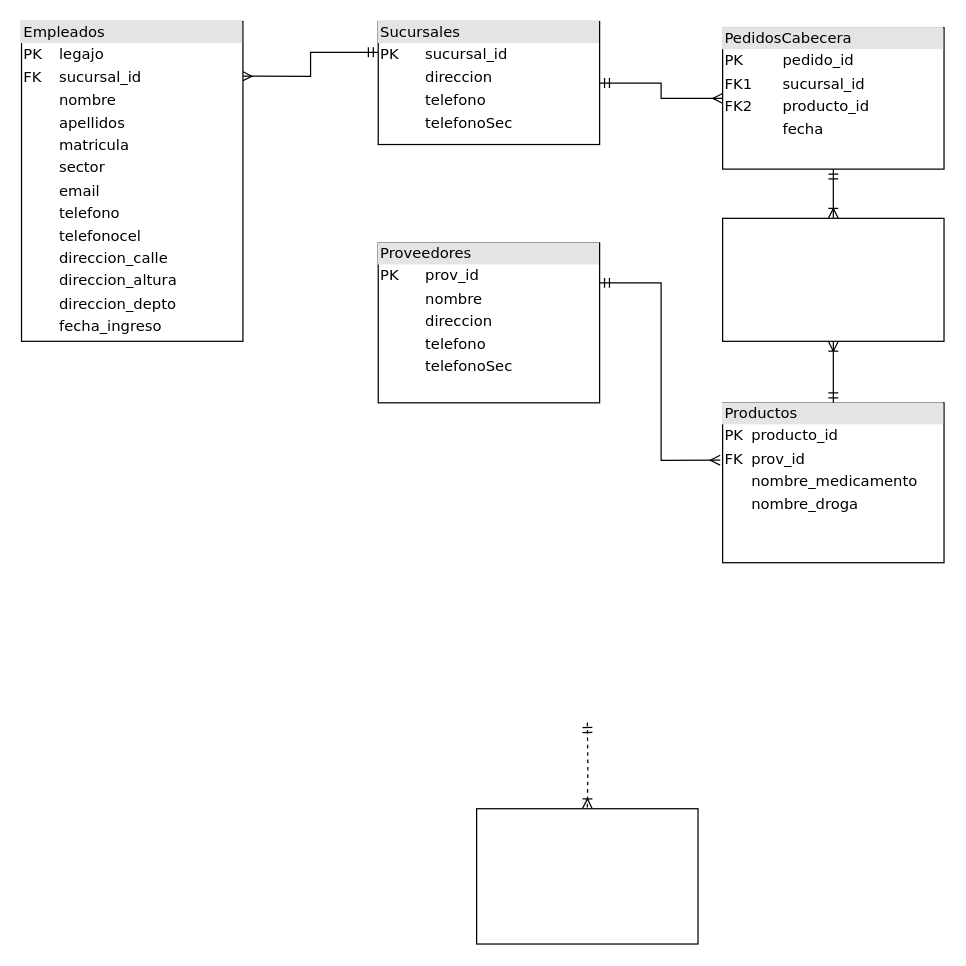
Image size: 966x966. Some labels were removed from this diagram. Here are the shapes that lost their labels. From the top down, the box of each, then its label:
(721, 217, 944, 341): PedidosDetalle PK pedido_id PK producto_id cantidadProducto
(475, 807, 698, 944): Tablename PK uniqueId FK1 foreignKey fieldname fieldname FK1 foreignKey
